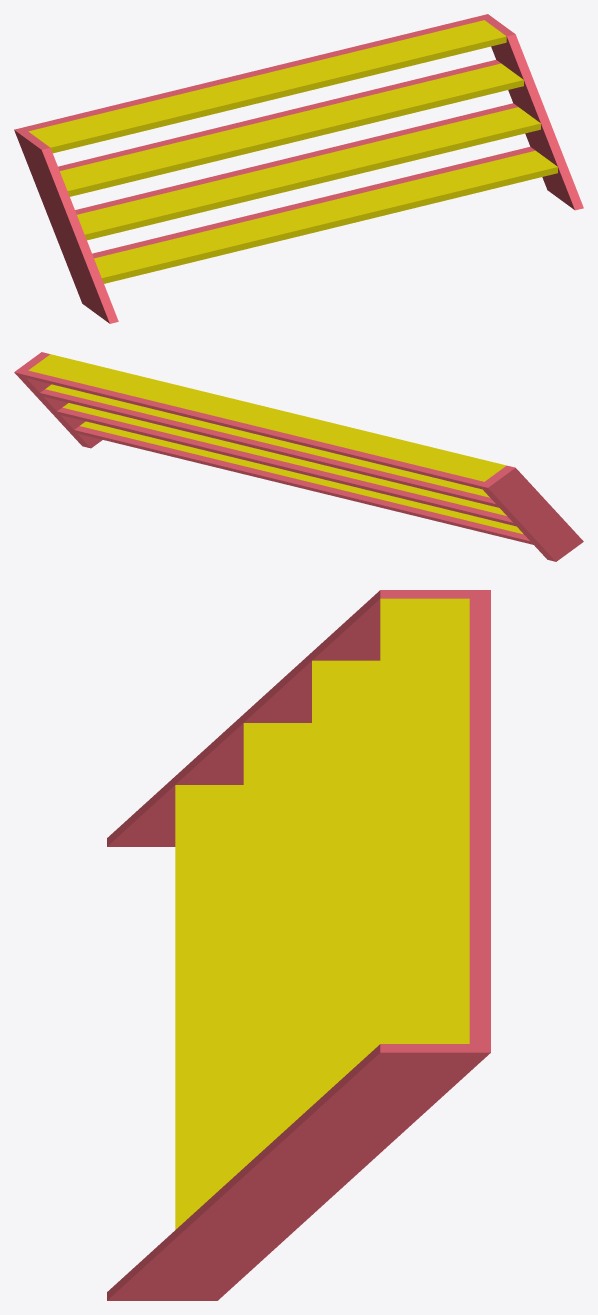
Rendered from decoration-stairs.fbx.
3 renders of one model, top to bottom at view 1: azimuth 30°, elevation 25°; view 2: azimuth 150°, elevation 25°; view 3: azimuth 270°, elevation 25°, orthographic. The views are drawn at different scales.
Visible parts, largest first — view 1: decoration-stairs; view 2: decoration-stairs; view 3: decoration-stairs.
Boxes of the visible parts, left/top/right/bottom form: decoration-stairs: left=14, top=14, right=583, bottom=323; decoration-stairs: left=14, top=352, right=583, bottom=561; decoration-stairs: left=107, top=590, right=490, bottom=1300.
Size of the model in its own units: 4 by 1 by 1.4.
